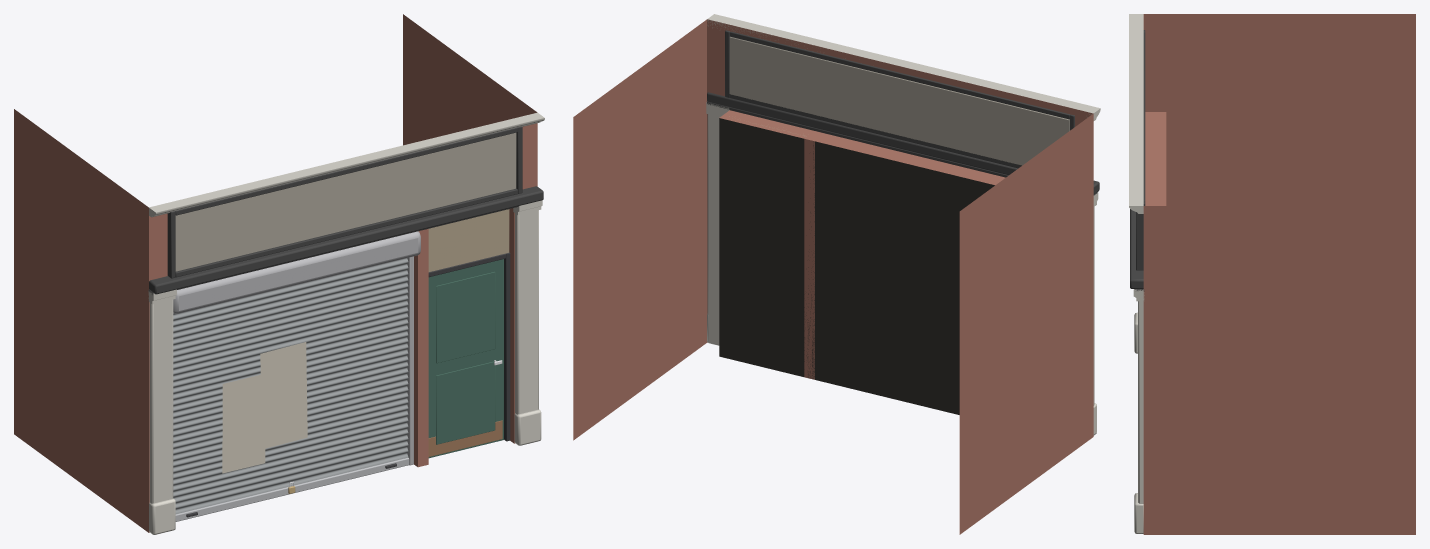
The model's file is shuttered_5a.glb.
The picture shows the model from 3 angles, left to right: view 1: azimuth 30°, elevation 25°; view 2: azimuth 150°, elevation 25°; view 3: azimuth 270°, elevation 25°; orthographic projection.
Parts seen in each view (by area): view 1: shuttered_5a; view 2: shuttered_5a; view 3: shuttered_5a.
Part boxes in pixels (x1=…): shuttered_5a: x1=14, y1=14, x2=544, y2=534; shuttered_5a: x1=573, y1=14, x2=1100, y2=534; shuttered_5a: x1=1129, y1=14, x2=1415, y2=534.
Size of the model in its own units: 5 by 4 by 3.16.
